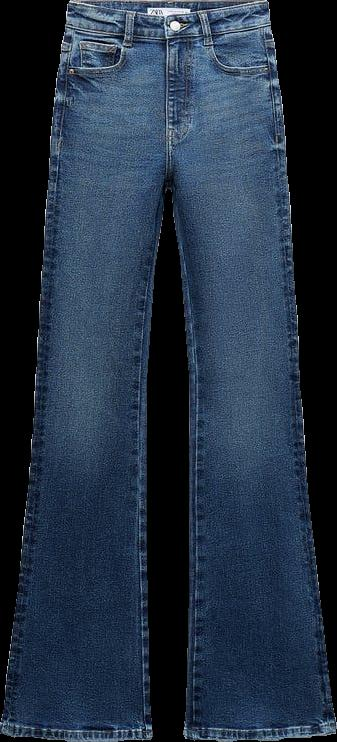Hemline: (183, 723, 336, 741), (0, 727, 154, 741)
Pantleg: (163, 0, 335, 741), (0, 0, 169, 741)
Waistline: (65, 17, 271, 41), (66, 0, 267, 18)
